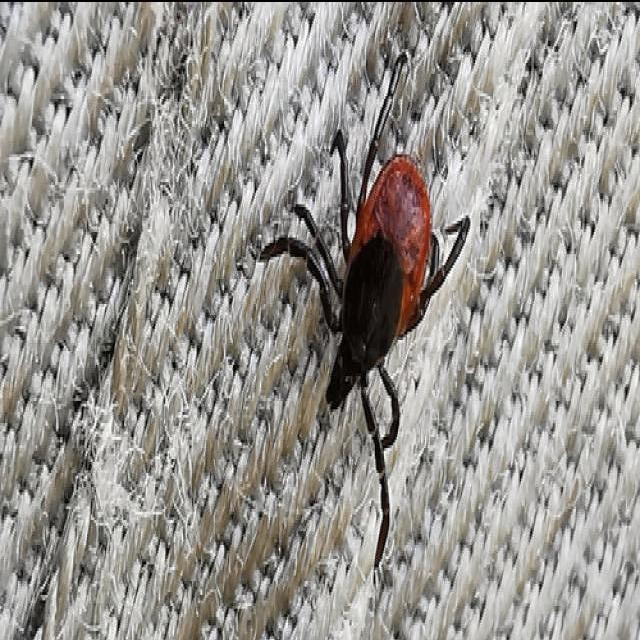Ixodes Ricinus-F: (257, 47, 470, 562)
